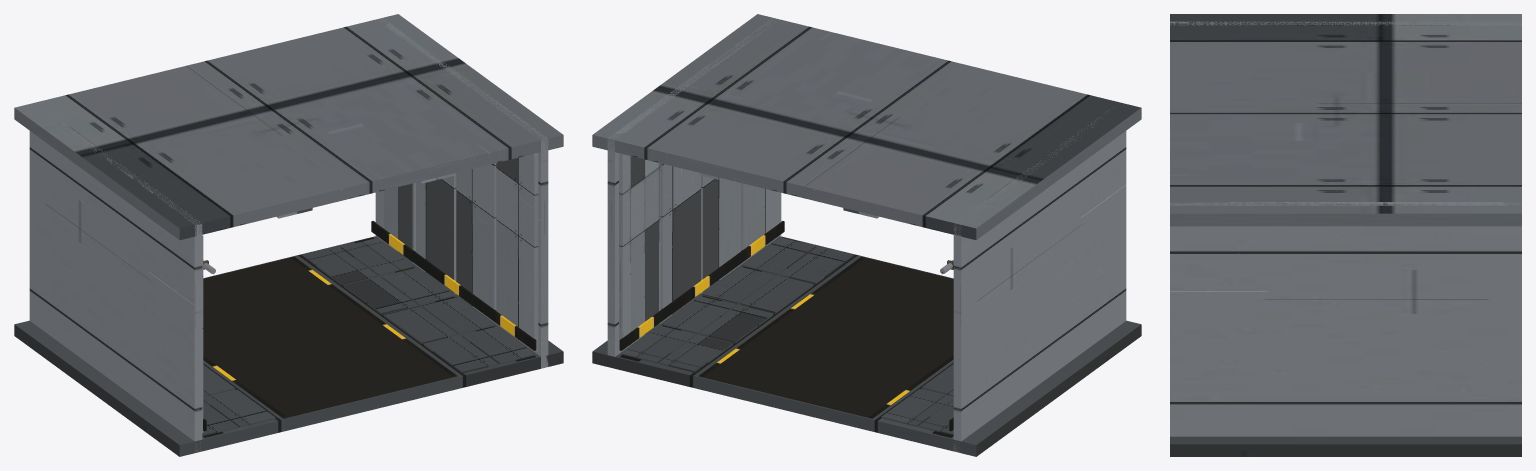
Rendered from hangar_koridor_ankora.glb.
3 views of the same model, side by side, from view 1: azimuth 30°, elevation 25°; view 2: azimuth 150°, elevation 25°; view 3: azimuth 270°, elevation 25° (orthographic). The views are drawn at different scales.
Visible parts, largest first — view 1: LOD0_koridor; view 2: LOD0_koridor; view 3: LOD0_koridor.
Part boxes in pixels (x1,y1,x2,y2): LOD0_koridor: (14, 14, 563, 456); LOD0_koridor: (592, 14, 1141, 456); LOD0_koridor: (1170, 14, 1521, 456).
Bounding box in the file's own units: 10.2 × 5.8 × 7.6.
Materials: 1 (1 with a texture image).
